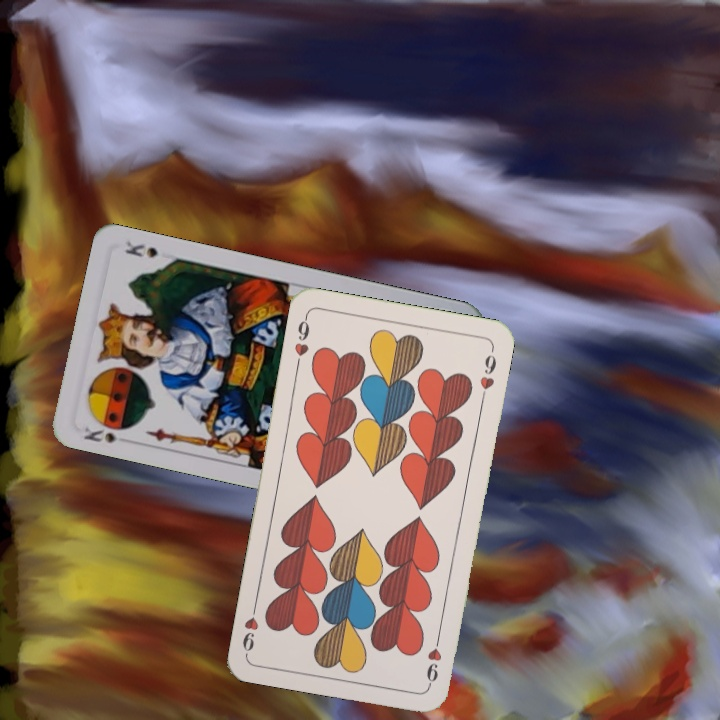H9: (422, 629, 445, 688), (290, 311, 312, 370)
SK: (79, 417, 133, 446)
